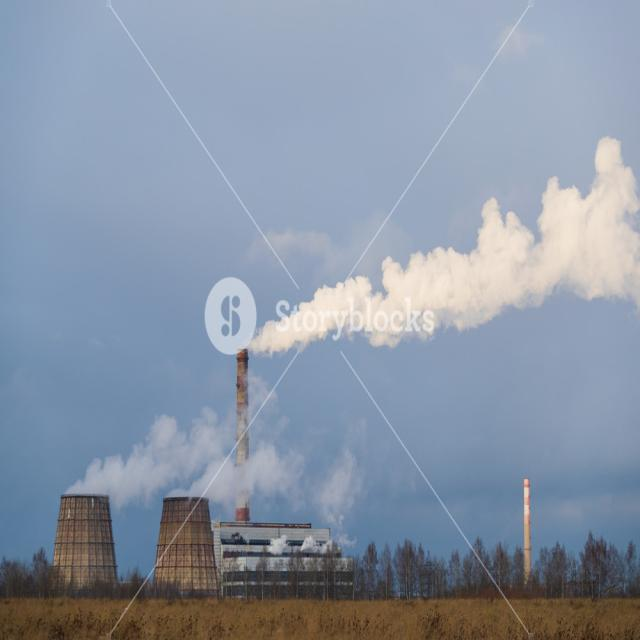Smoke: (247, 135, 640, 361), (64, 367, 371, 528)
